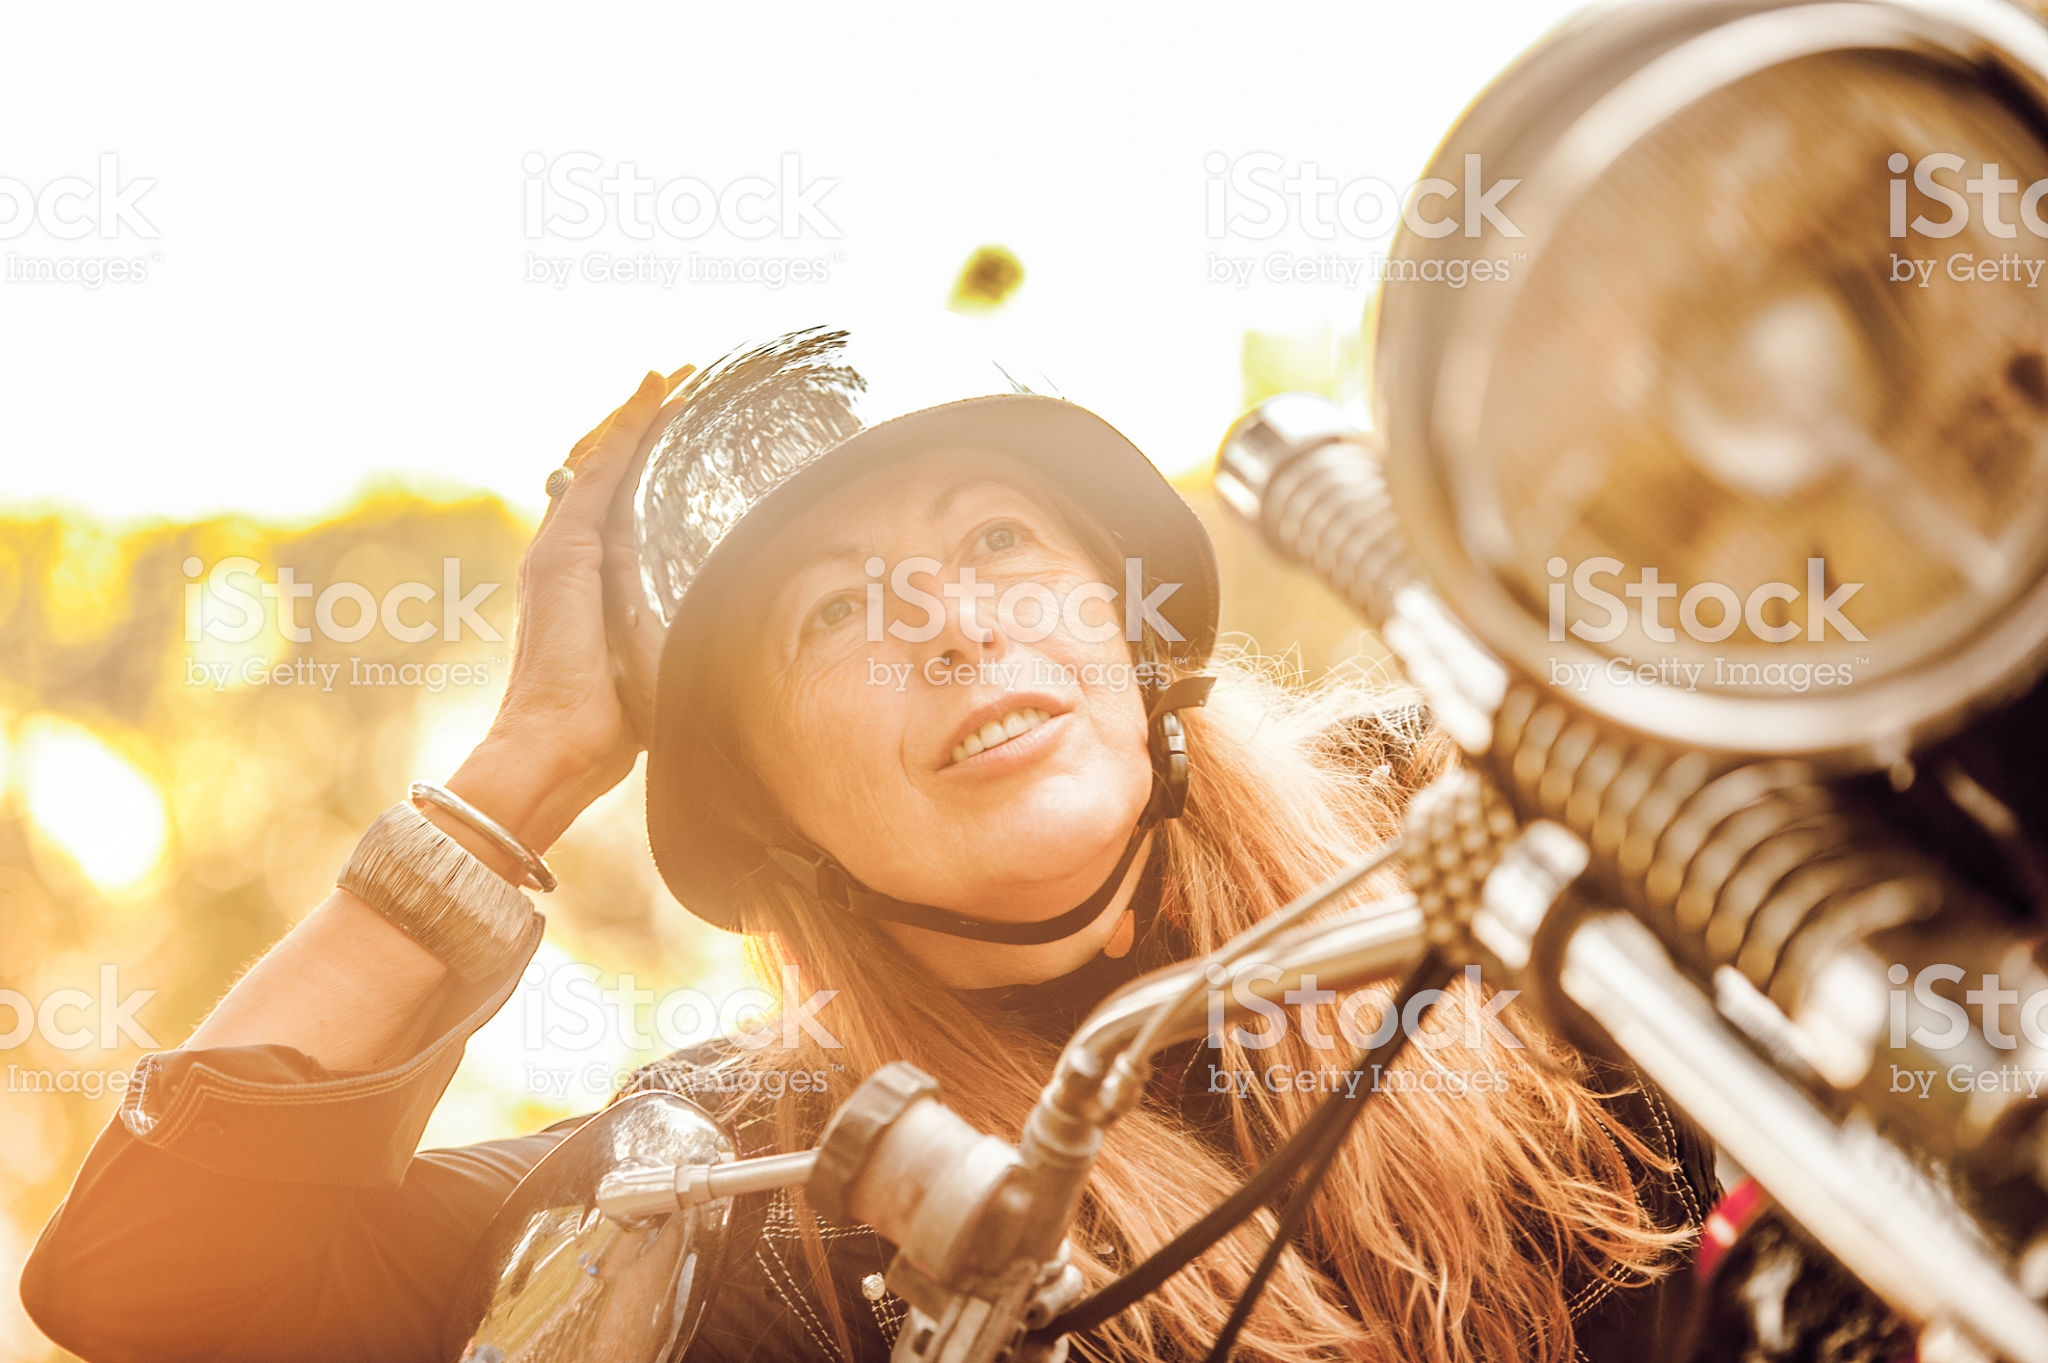helmet: (534, 268, 1209, 627)
